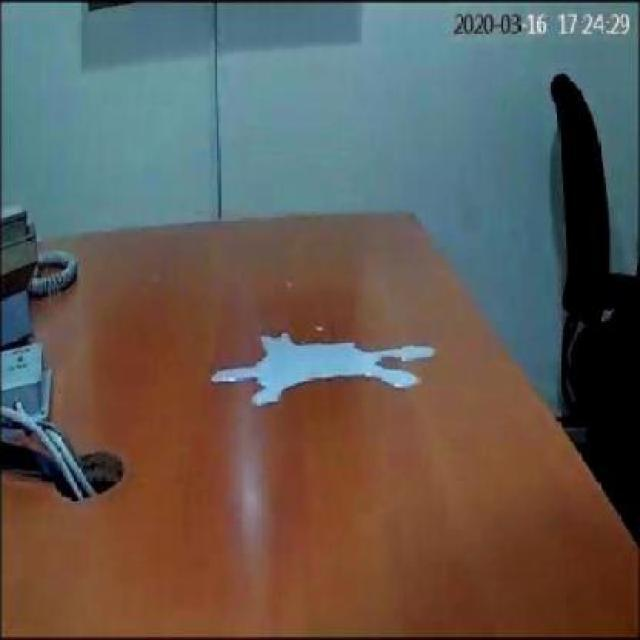spillage: (210, 332, 437, 408)
